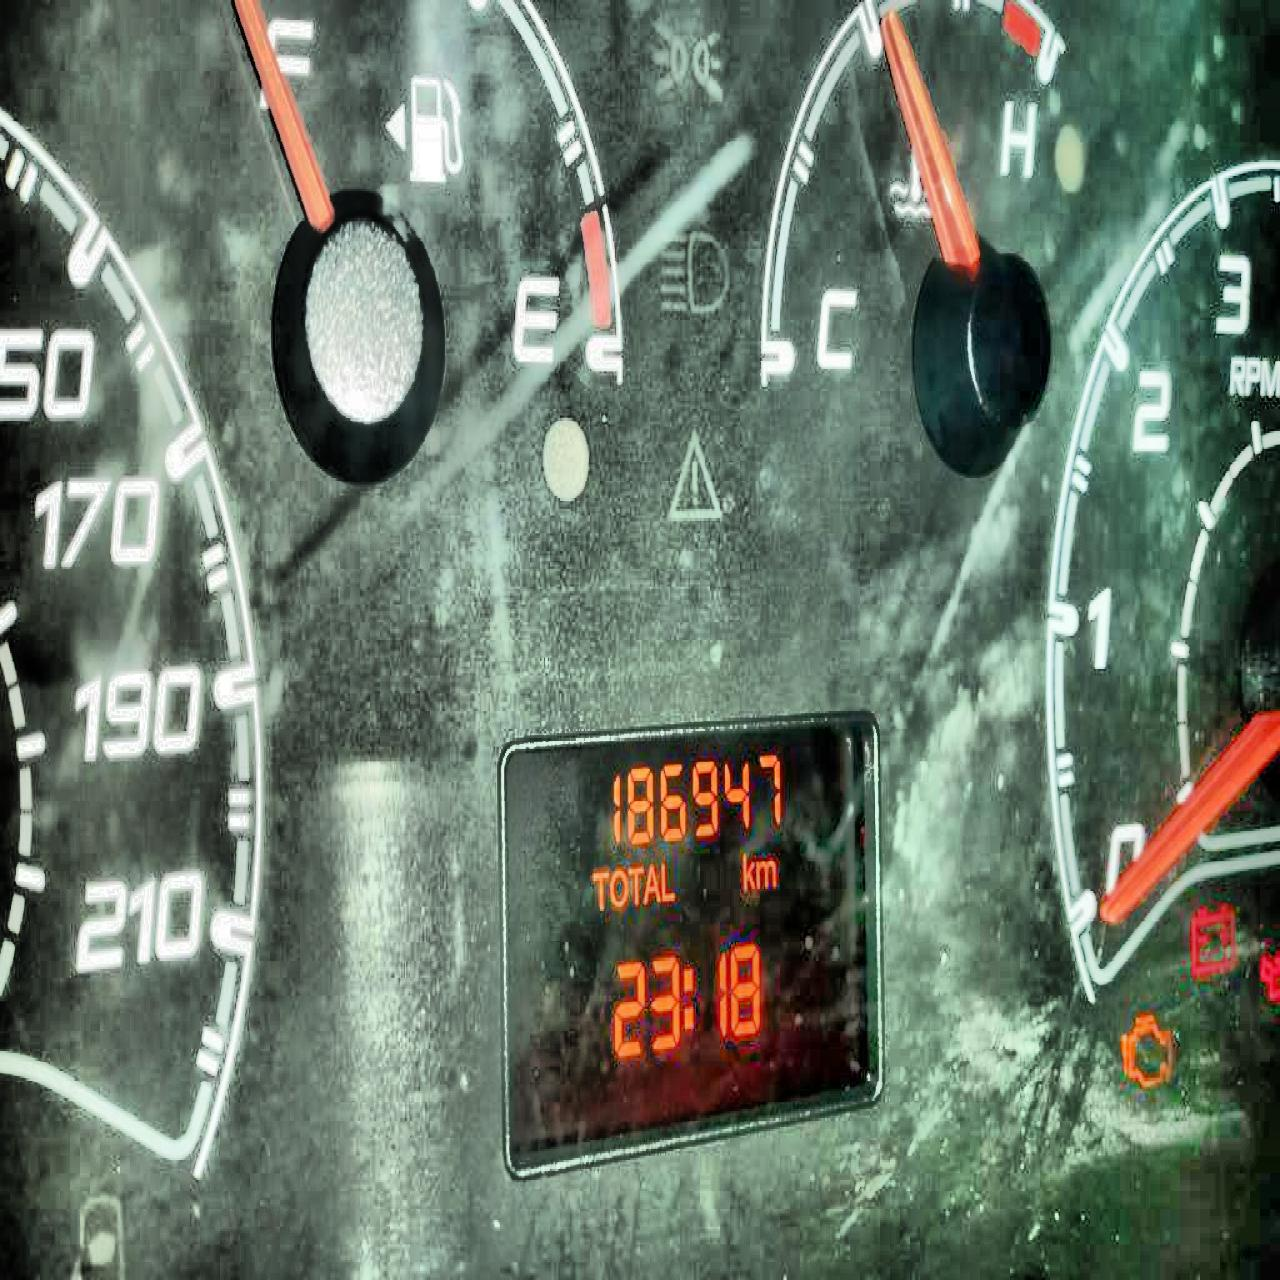1: (713, 945, 727, 1037), (608, 767, 622, 846)
2: (610, 955, 646, 1062)
3: (647, 951, 679, 1053)
4: (720, 755, 751, 829)
6: (658, 757, 687, 843)
7: (756, 747, 783, 829)
8: (728, 940, 761, 1036), (626, 763, 654, 844)
9: (689, 754, 719, 839)
X: (680, 962, 694, 1034), (588, 866, 610, 911), (642, 859, 660, 904), (626, 863, 642, 907), (608, 865, 626, 906), (755, 856, 776, 888), (660, 858, 675, 903), (740, 846, 755, 891)
odometer: (493, 707, 885, 1178)
